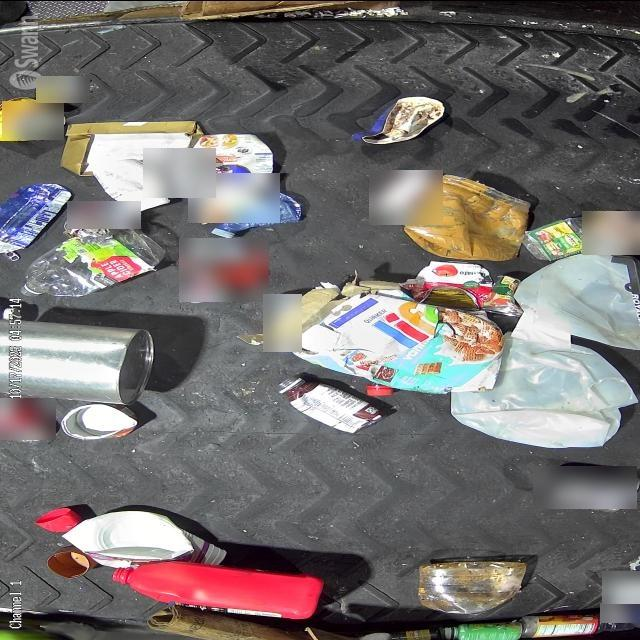milk_jug: (448, 331, 640, 449), (516, 250, 640, 349)
non_white_jug: (107, 562, 319, 620)
plastic_bottle: (18, 230, 158, 298)
